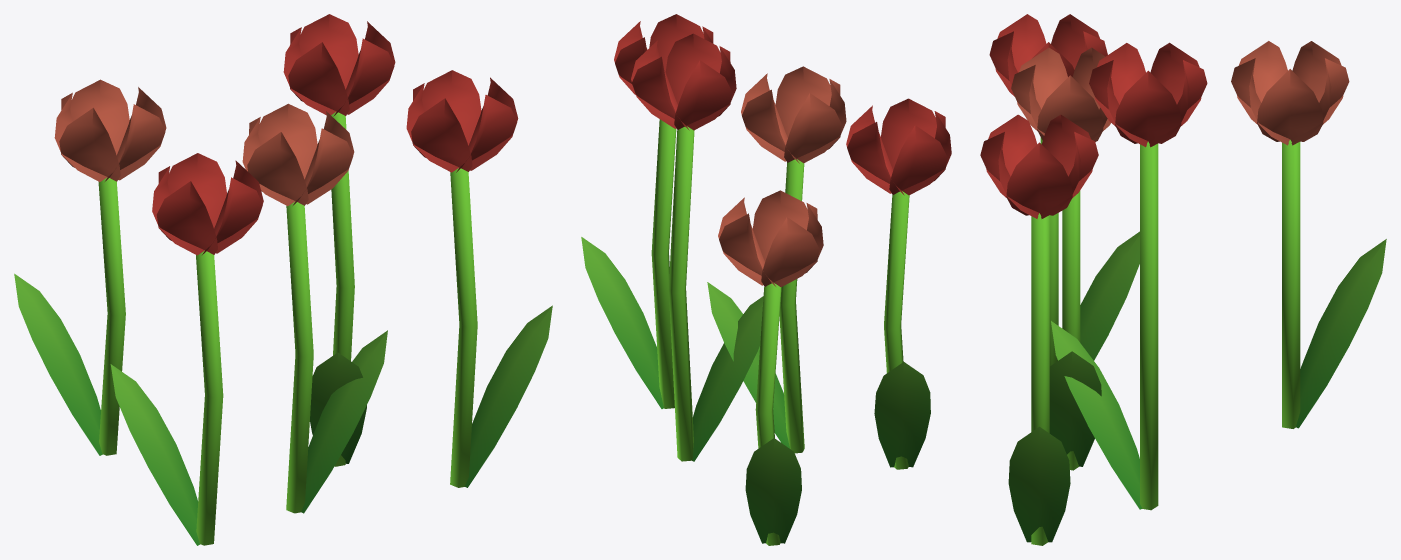
Rendered from tulips_red.glb.
3 views of the same model, side by side, from view 1: azimuth 30°, elevation 25°; view 2: azimuth 150°, elevation 25°; view 3: azimuth 270°, elevation 25° (orthographic). The views are drawn at different scales.
Visible parts, largest first — view 1: tulips_red; view 2: tulips_red; view 3: tulips_red.
Boxes of the visible parts, x1,y1,x2,y2 form: tulips_red: (14,14,552,545); tulips_red: (581,14,951,545); tulips_red: (980,14,1386,545).
Size of the model in its own units: 0.4282 by 0.4457 by 0.3637.
